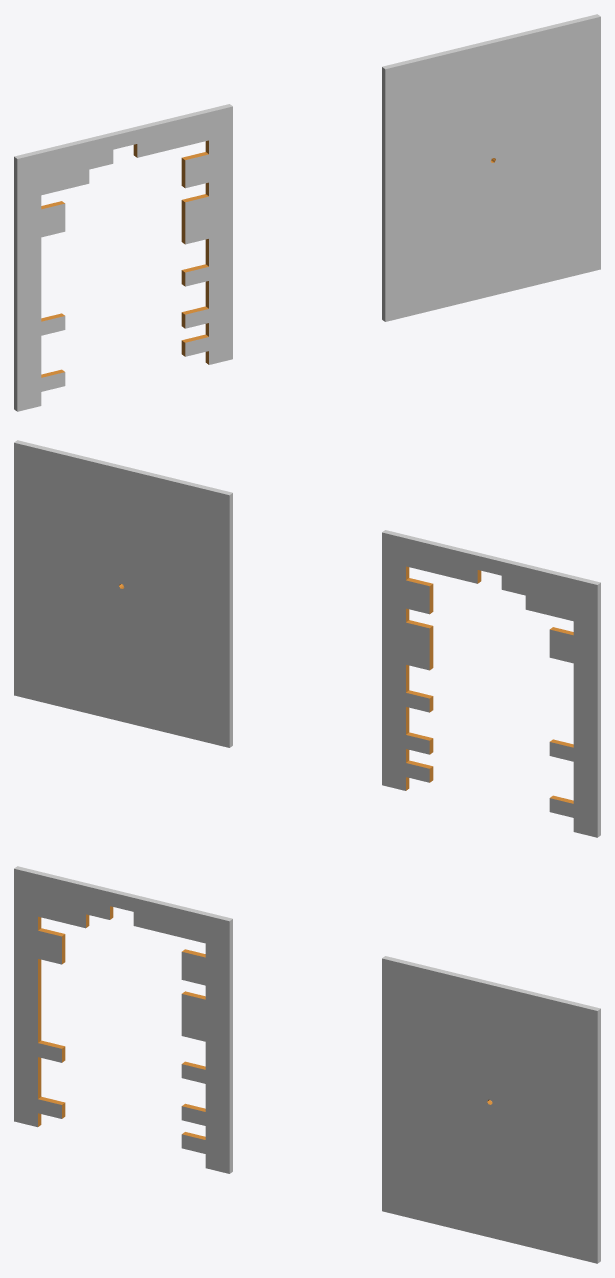
Rendered from Broken & Hole Wall.fbx.
3 renders of one model, top to bottom at view 1: azimuth 30°, elevation 25°; view 2: azimuth 150°, elevation 25°; view 3: azimuth 330°, elevation 25°, orthographic.
Visible parts, largest first — view 1: Wall.001, Wall Broken; view 2: Wall.001, Wall Broken; view 3: Wall.001, Wall Broken.
Boxes of the visible parts, bbox=[...] form: Wall.001: bbox=[382, 14, 600, 321]; Wall Broken: bbox=[14, 104, 232, 411]; Wall.001: bbox=[14, 440, 232, 747]; Wall Broken: bbox=[382, 530, 600, 837]; Wall.001: bbox=[382, 956, 600, 1263]; Wall Broken: bbox=[14, 866, 232, 1173].
Size of the model in its own units: 6.76 by 2.8 by 0.0693.
